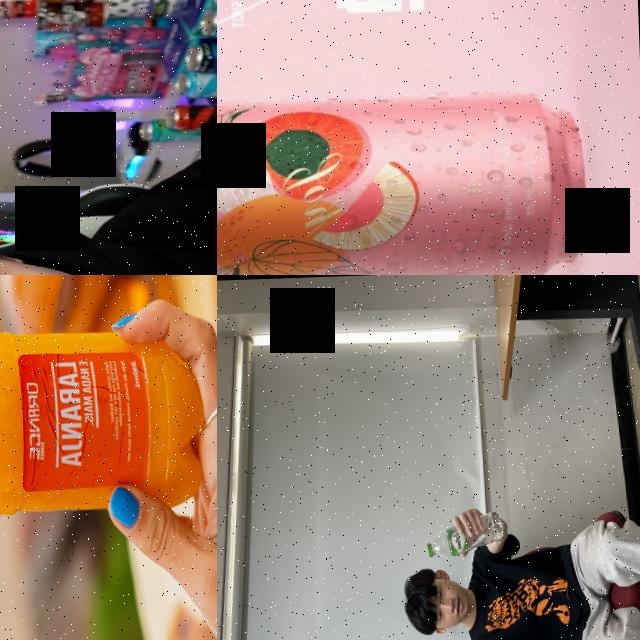bottle: (0, 319, 208, 518), (424, 509, 506, 558)
can: (217, 82, 585, 275), (131, 115, 217, 143), (161, 94, 217, 132), (182, 33, 217, 76), (174, 68, 217, 100)
